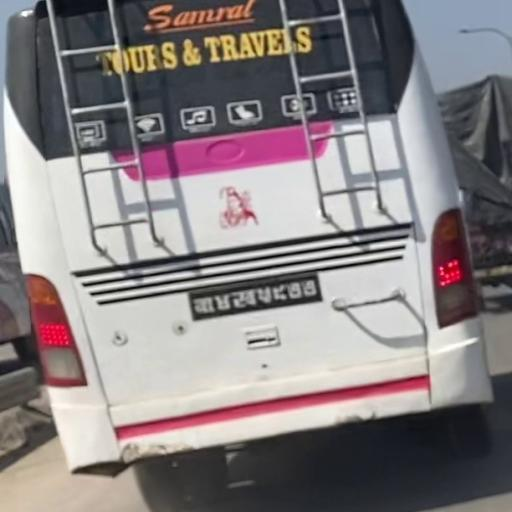license_plate: (185, 268, 326, 329)
